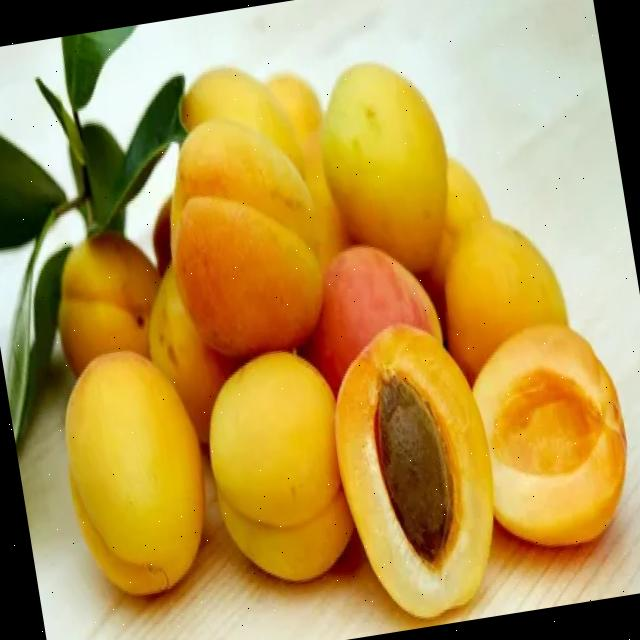Cekirdek: (376, 373, 453, 561)
Kayisi: (65, 351, 204, 594)
Yaprak: (0, 26, 186, 443)
